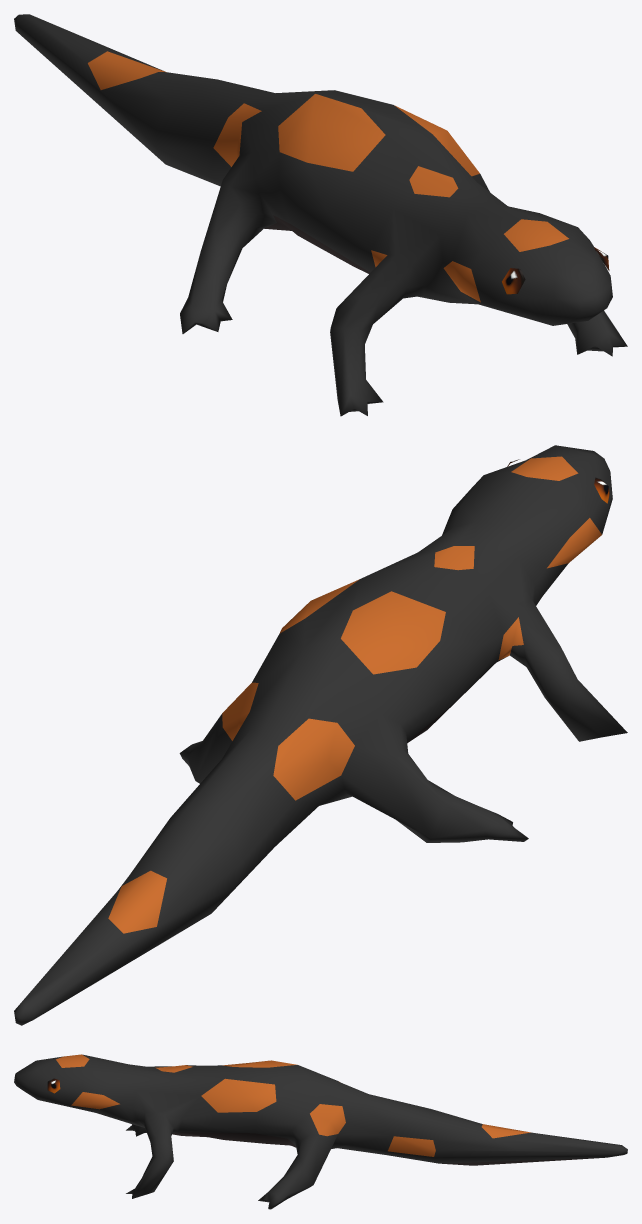
The model's file is Salamander.glb.
3 renders of one model, top to bottom at view 1: azimuth 30°, elevation 25°; view 2: azimuth 150°, elevation 25°; view 3: azimuth 270°, elevation 25°, orthographic. The views are drawn at different scales.
Parts seen in each view (by area): view 1: Salamander; view 2: Salamander; view 3: Salamander.
Boxes of the visible parts, <box> form: Salamander: <box>14,14,627,416</box>; Salamander: <box>14,445,627,1025</box>; Salamander: <box>14,1054,627,1209</box>.
Size of what is drawn, in the model's own units: 0.5275 by 0.2894 by 1.53.
1 material, 1 textured.
